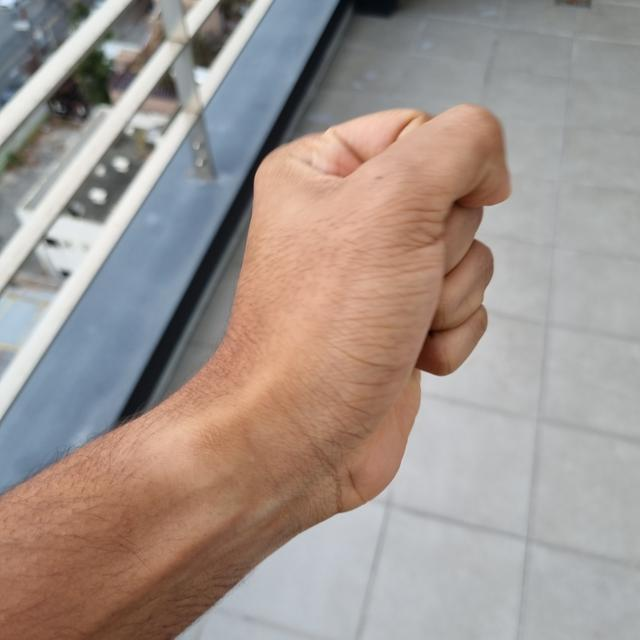Rock: (206, 104, 512, 520)
